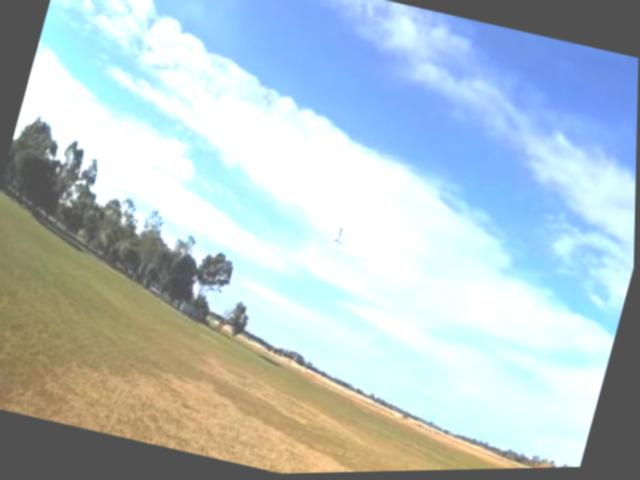uav: (320, 221, 362, 262)
